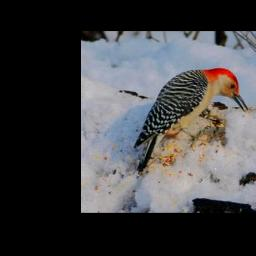Woodpecker: (131, 67, 249, 178)
